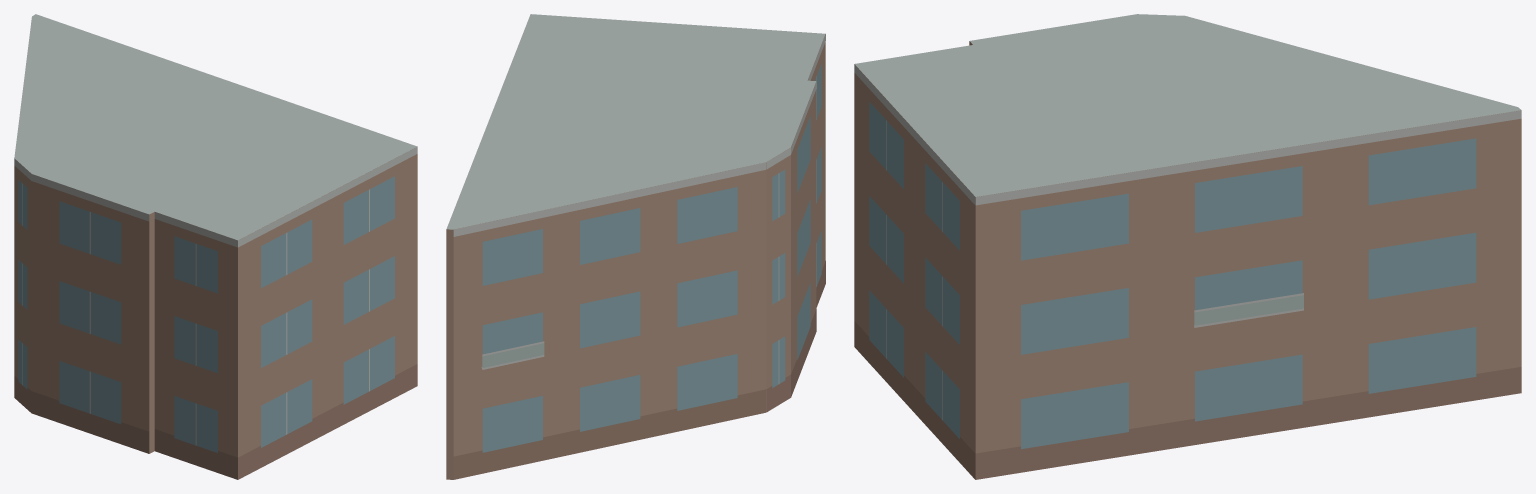
File: survey-upis-32489823.glb
The picture shows the model from 3 angles, left to right: view 1: azimuth 30°, elevation 25°; view 2: azimuth 150°, elevation 25°; view 3: azimuth 270°, elevation 25°; orthographic projection. The views are drawn at different scales.
Parts seen in each view (by area): view 1: survey-upis-32489823.tmp; view 2: survey-upis-32489823.tmp; view 3: survey-upis-32489823.tmp.
Boxes of the visible parts, left/top/right/bottom form: survey-upis-32489823.tmp: left=14, top=14, right=417, bottom=479; survey-upis-32489823.tmp: left=446, top=14, right=825, bottom=479; survey-upis-32489823.tmp: left=854, top=14, right=1521, bottom=479.
Size of the model in its own units: 11.39 by 8.2 by 17.54.
